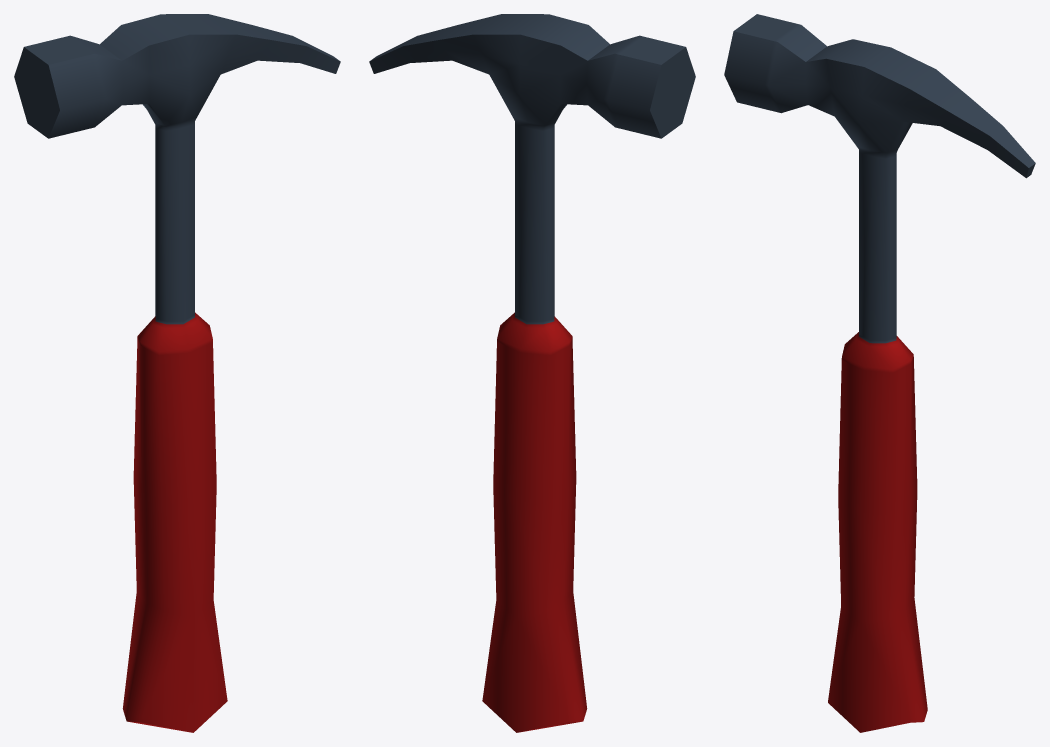
The model's file is hammer.FBX.
3 views of the same model, side by side, from view 1: azimuth 30°, elevation 25°; view 2: azimuth 150°, elevation 25°; view 3: azimuth 330°, elevation 25° (orthographic). The views are drawn at different scales.
Visible parts, largest first — view 1: hammer001; view 2: hammer001; view 3: hammer001.
Part boxes in pixels (x1,y1,x2,y2): hammer001: [14, 14, 340, 732]; hammer001: [369, 14, 695, 732]; hammer001: [724, 14, 1035, 732].
Bounding box in the file's own units: 0.1239 × 0.2744 × 0.0328.
